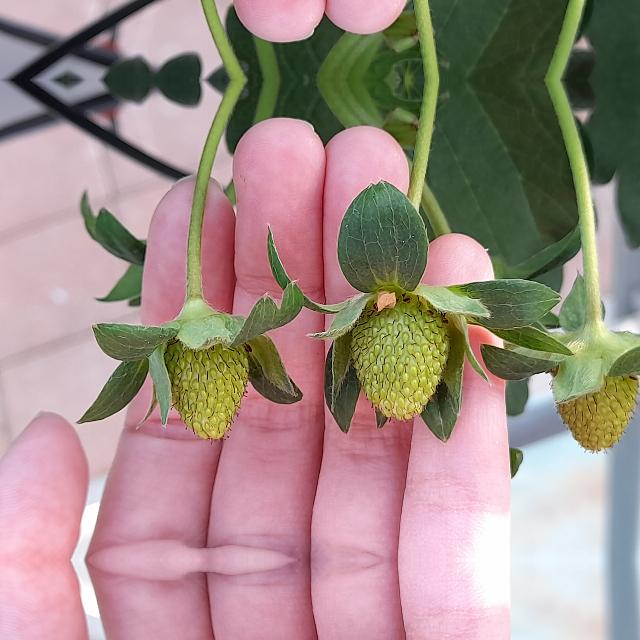Health_25: (348, 291, 450, 424), (156, 332, 252, 444), (554, 350, 636, 454)
